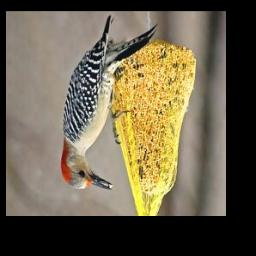Woodpecker: (47, 18, 162, 198)
